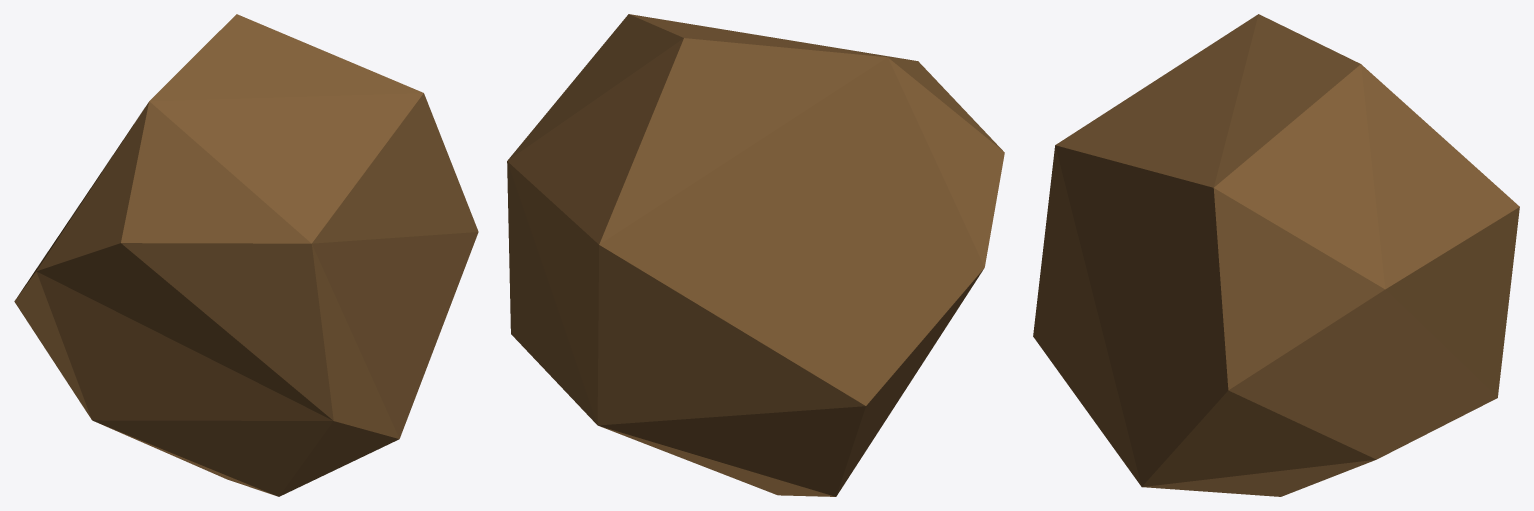
The model's file is Rock3.fbx.
3 views of the same model, side by side, from view 1: azimuth 30°, elevation 25°; view 2: azimuth 150°, elevation 25°; view 3: azimuth 270°, elevation 25° (orthographic). The views are drawn at different scales.
Visible parts, largest first — view 1: shitou2; view 2: shitou2; view 3: shitou2.
Part boxes in pixels (bbox=[...]): shitou2: bbox=[14, 14, 478, 496]; shitou2: bbox=[507, 14, 1004, 496]; shitou2: bbox=[1033, 14, 1519, 496].
Bounding box in the file's own units: 4.29 × 4.21 × 4.06.
